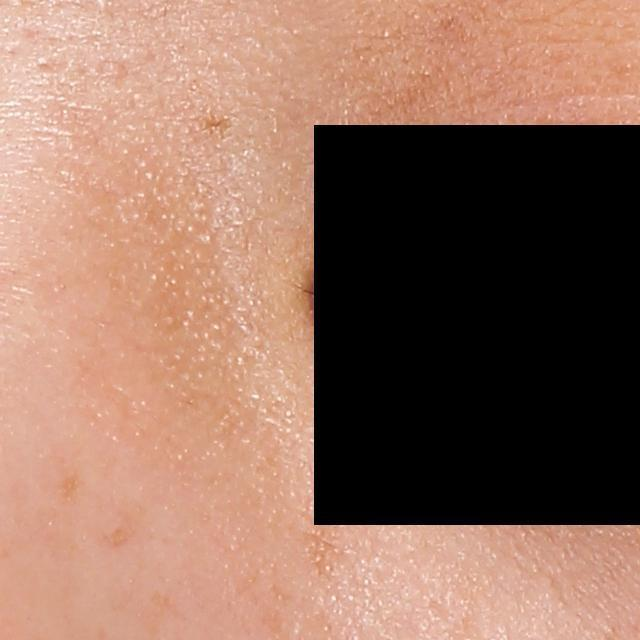melasma: (296, 510, 345, 590), (97, 506, 138, 549), (55, 462, 81, 506)
